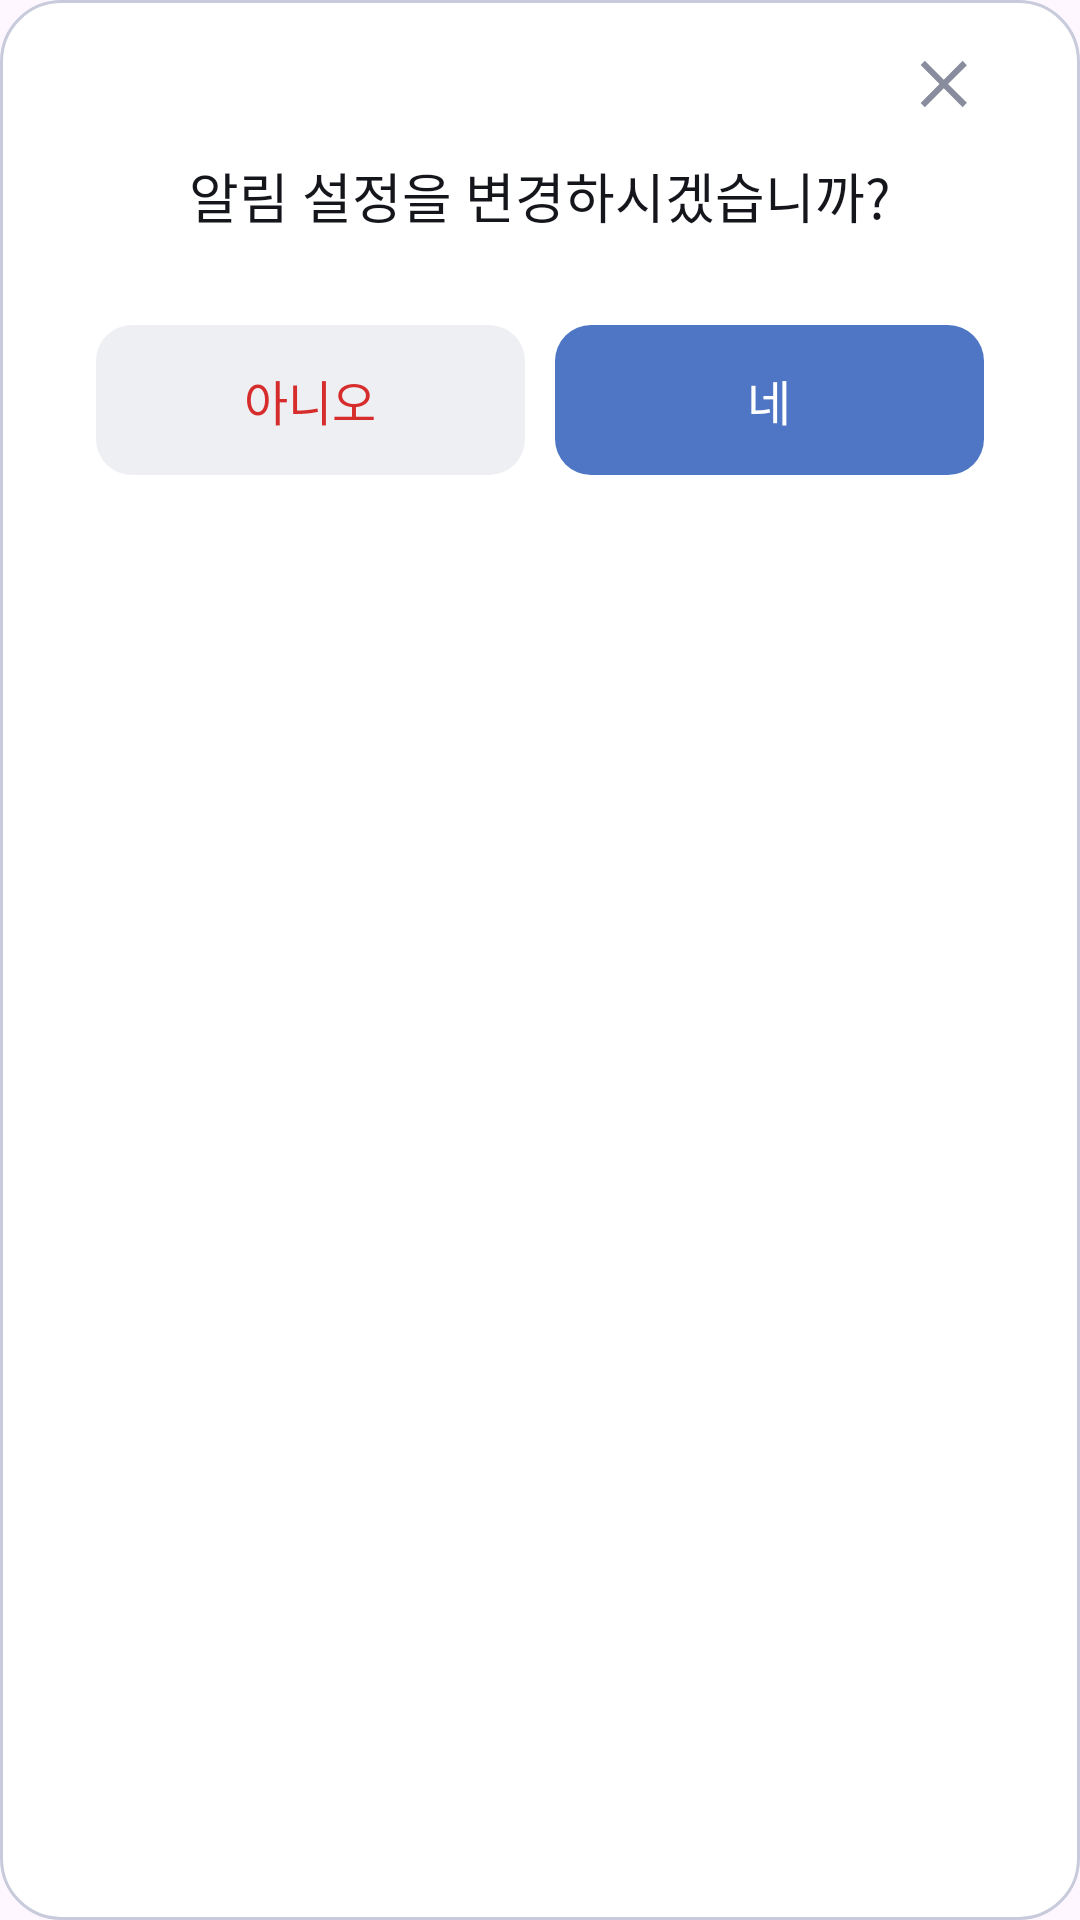

Locate icon controls on the screen. Image size 1080w x 1920h, boxes as (x1, y1, x2, y2).
닫기: (921, 61, 967, 107)
